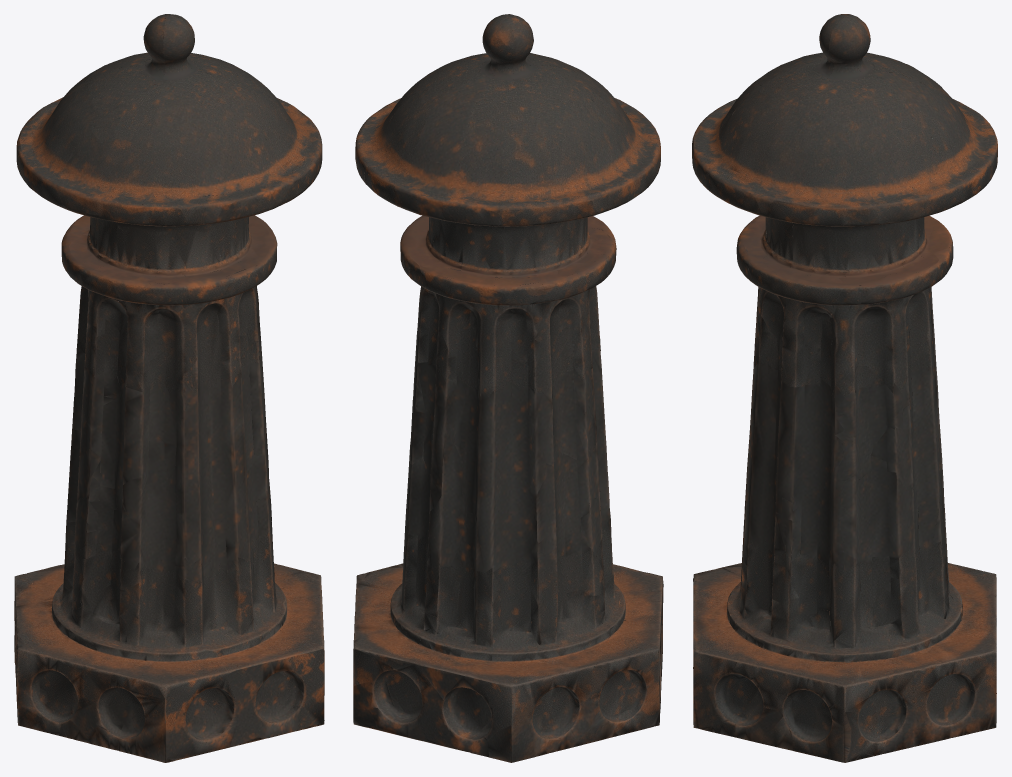
Rendered from bitta_ormeggio_lod0.glb.
3 views of the same model, side by side, from view 1: azimuth 30°, elevation 25°; view 2: azimuth 150°, elevation 25°; view 3: azimuth 270°, elevation 25° (orthographic).
Parts seen in each view (by area): view 1: Mesh_0.001; view 2: Mesh_0.001; view 3: Mesh_0.001.
Boxes of the visible parts, x1=… form: Mesh_0.001: x1=14, y1=14, x2=324, y2=762; Mesh_0.001: x1=353, y1=14, x2=663, y2=762; Mesh_0.001: x1=692, y1=14, x2=997, y2=762.
Size of the model in its own units: 0.4723 by 1 by 0.4119.
Materials: 1 (1 with a texture image).
